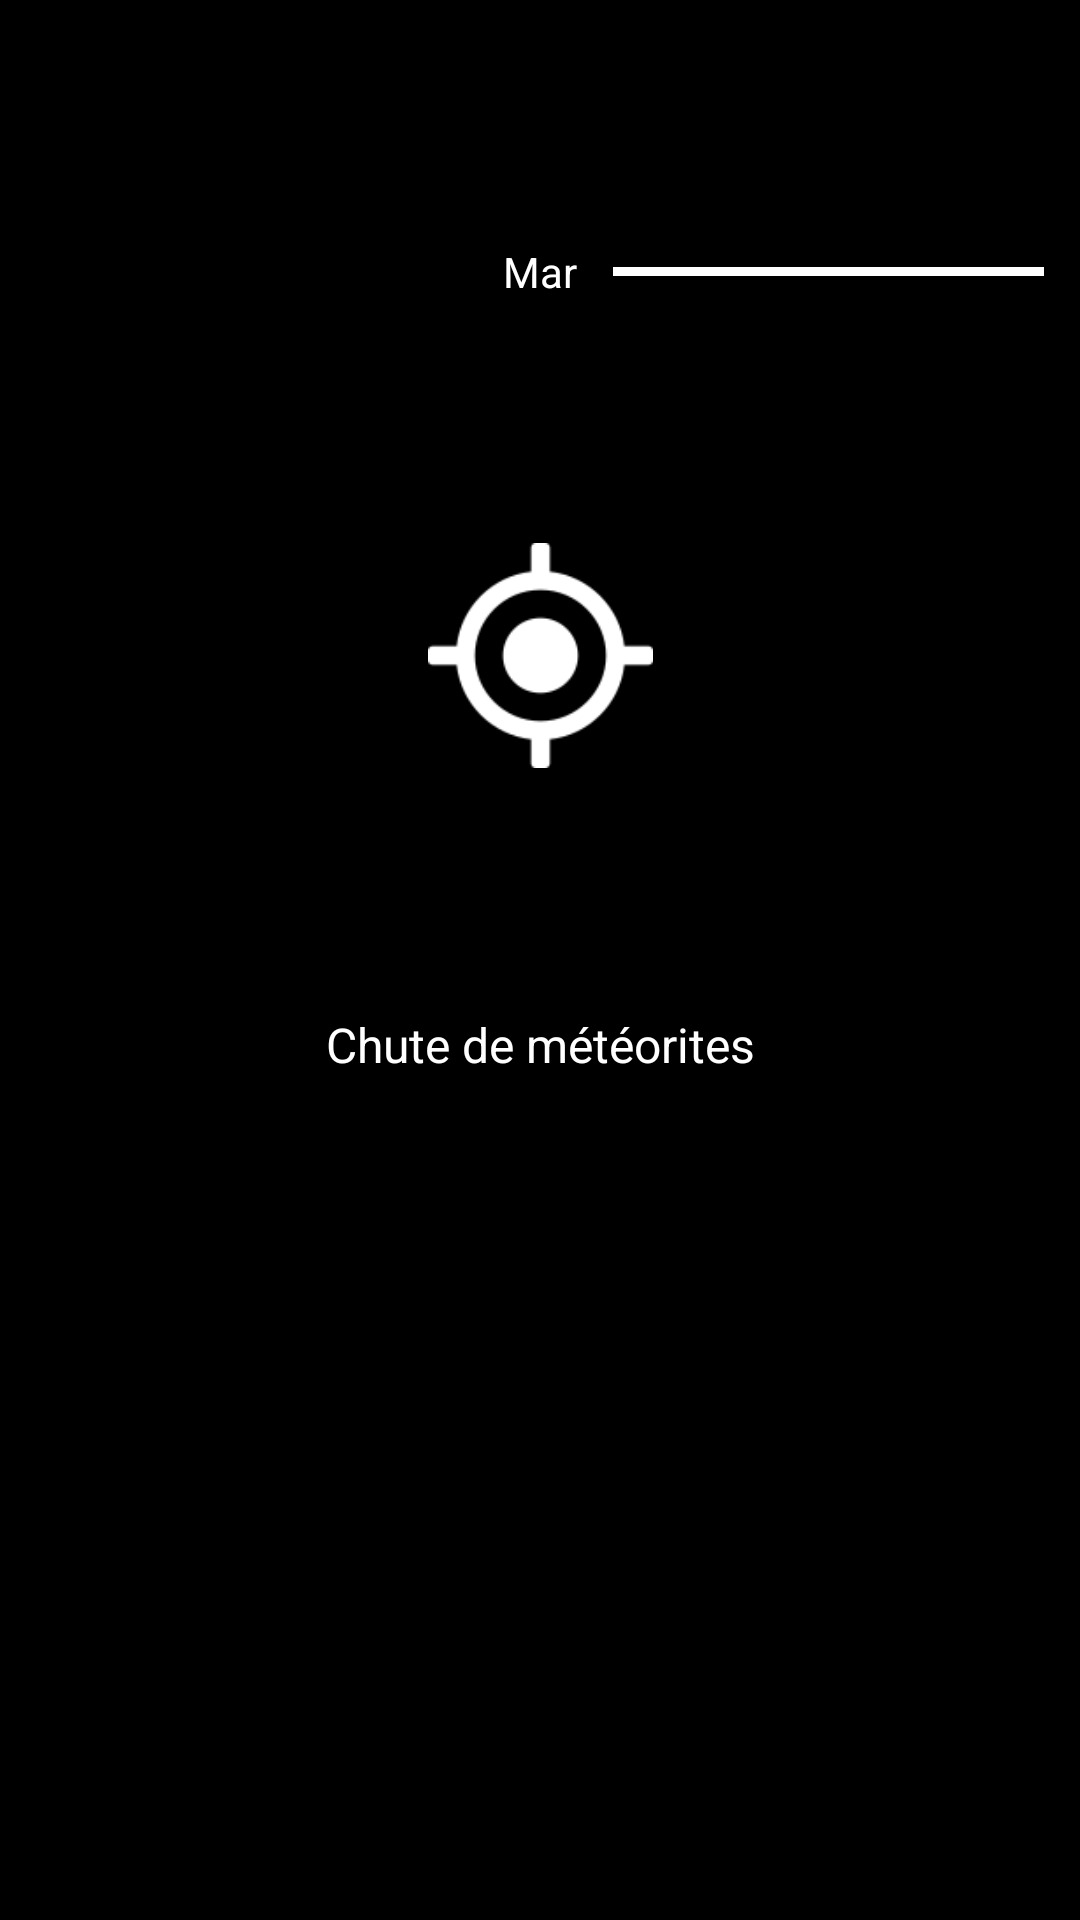

Screen size 1080x1920. Icon name, then its center in pixels as point (x, y):
location: point (540, 655)
